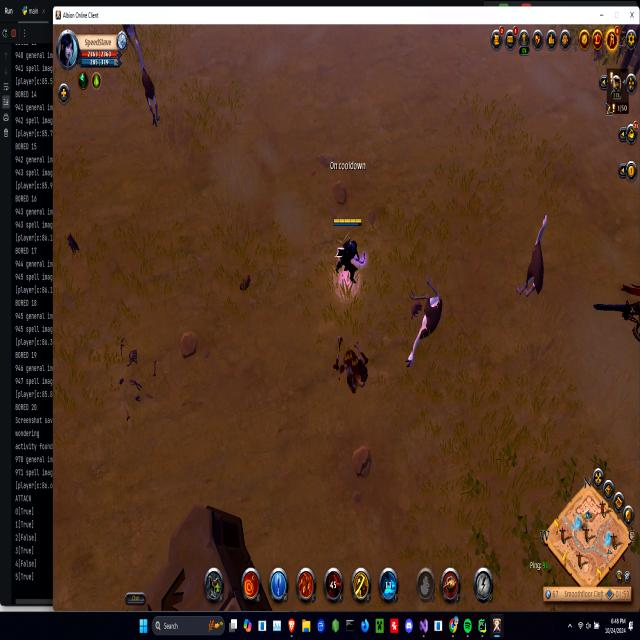mob: (398, 275, 447, 374)
ore: (516, 212, 554, 304), (133, 36, 164, 130)
red: (329, 212, 368, 298)
